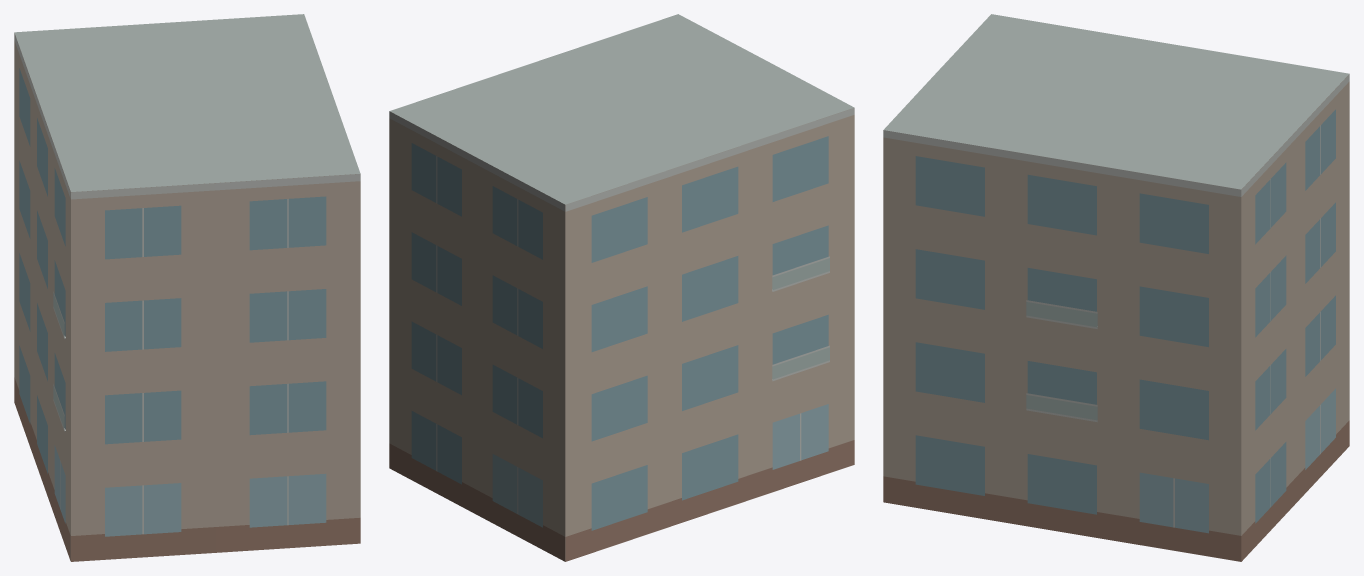
Rendered from residential-709cca00-60f5-4653-9733-f41e1f2329de.glb.
3 views of the same model, side by side, from view 1: azimuth 30°, elevation 25°; view 2: azimuth 150°, elevation 25°; view 3: azimuth 270°, elevation 25° (orthographic). The views are drawn at different scales.
Parts seen in each view (by area): view 1: residential-709cca00-60f5-4653-9733-f41e1f2329de.tmp; view 2: residential-709cca00-60f5-4653-9733-f41e1f2329de.tmp; view 3: residential-709cca00-60f5-4653-9733-f41e1f2329de.tmp.
Boxes of the visible parts, bbox=[...] form: residential-709cca00-60f5-4653-9733-f41e1f2329de.tmp: bbox=[14, 14, 360, 561]; residential-709cca00-60f5-4653-9733-f41e1f2329de.tmp: bbox=[389, 14, 854, 561]; residential-709cca00-60f5-4653-9733-f41e1f2329de.tmp: bbox=[883, 14, 1349, 561].
Size of the model in its own units: 12.35 by 12.2 by 13.86.
